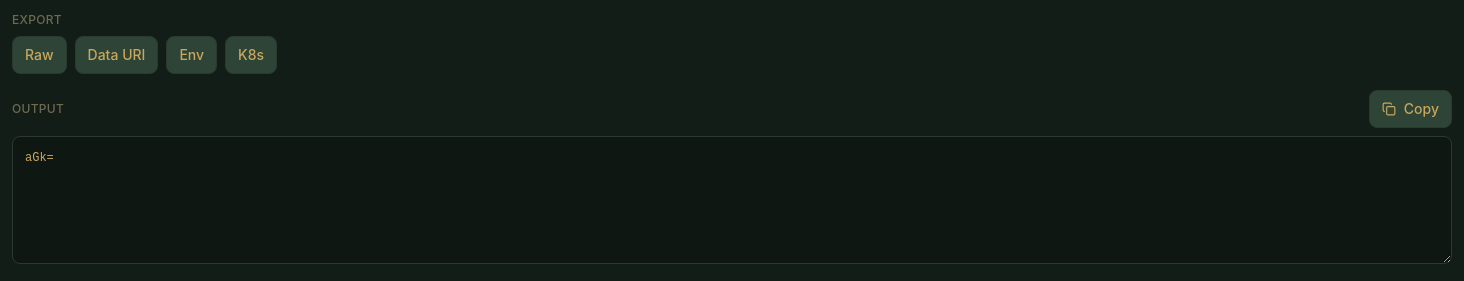
Test: ExportBar › switches to a data URI
Click the button "Data URI" at (116, 55), box [75,36,158,74]
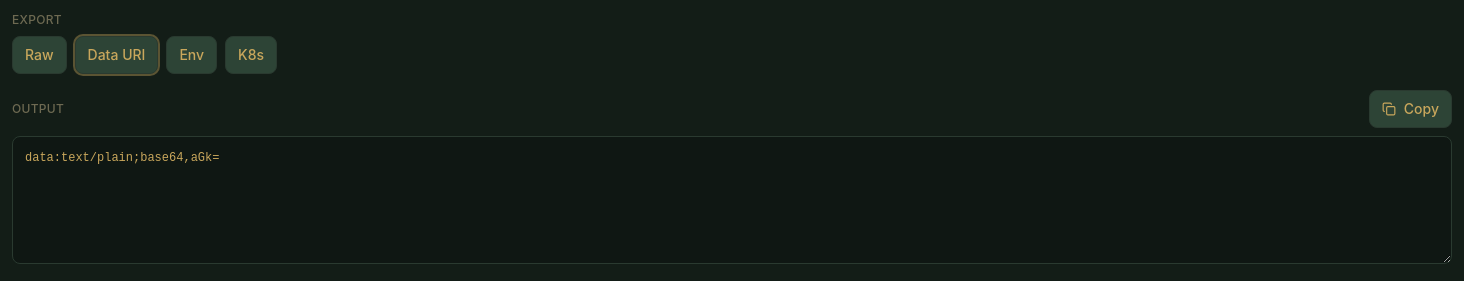
Result: the text box showing "data:text/plain;base64,aGk=" is shown at [12,136,1452,264]
